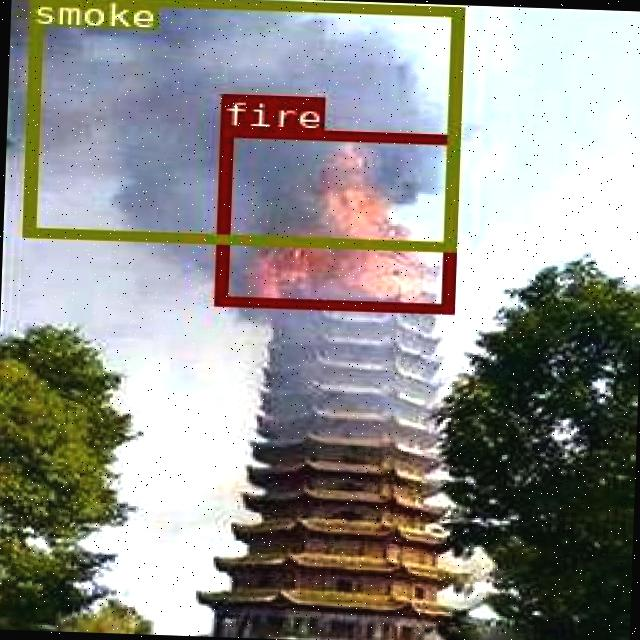fire: (212, 126, 456, 311)
smoke: (20, 0, 460, 249)
